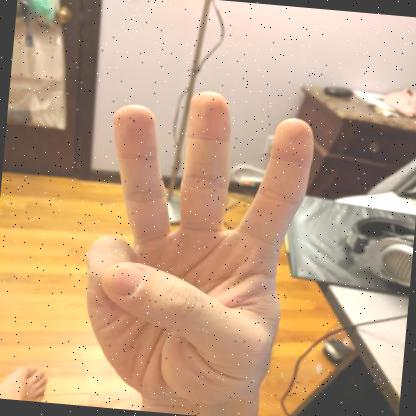W: (85, 91, 314, 414)
